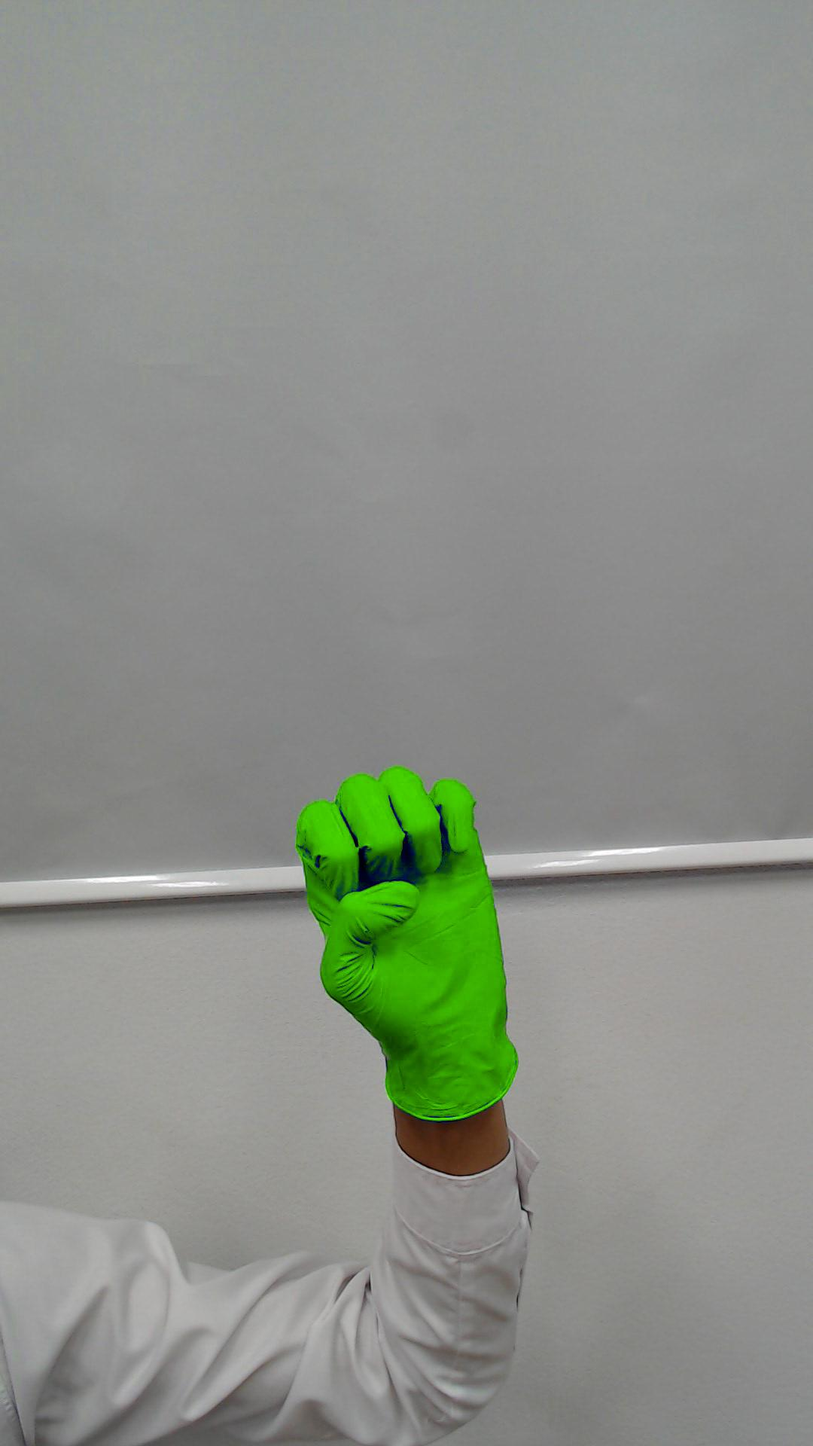gloves: (276, 749, 528, 1051)
